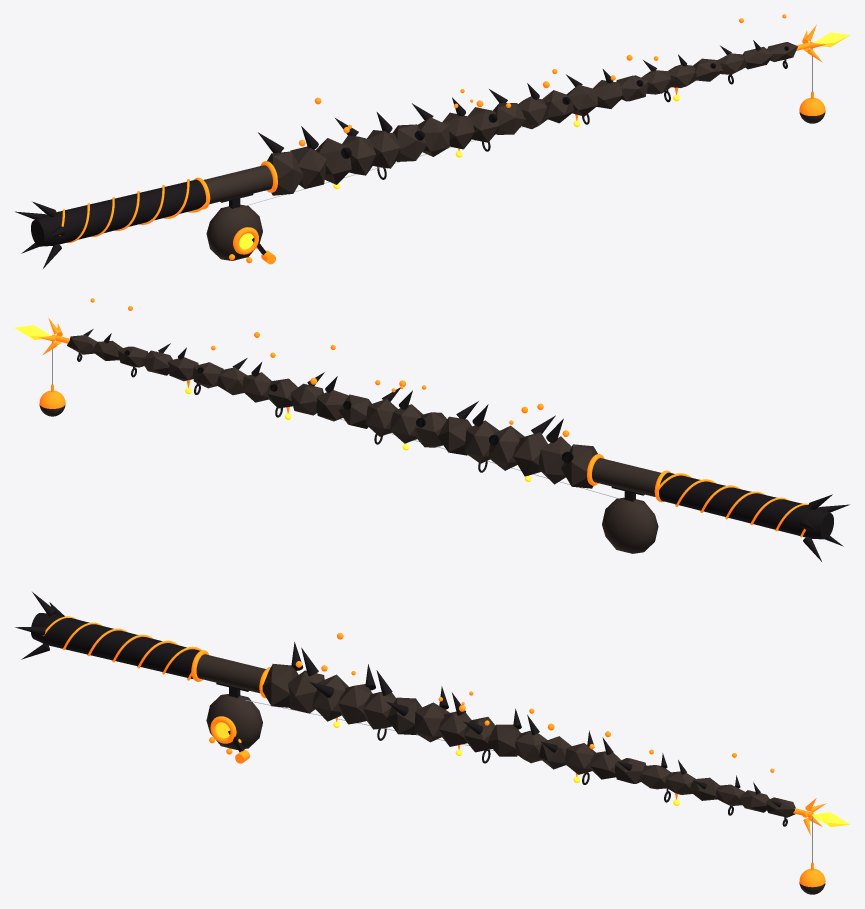
Rendered from ROD_MAGMA.glb.
3 renders of one model, top to bottom at view 1: azimuth 30°, elevation 25°; view 2: azimuth 150°, elevation 25°; view 3: azimuth 330°, elevation 25°, orthographic.
Parts seen in each view (by area): view 1: rear_grip, reel_rock, reel_seat, rock_seg_0, rock_seg_1, rock_seg_2, rock_seg_4, rock_seg_3, rock_seg_6, rock_seg_5, rock_seg_7, rock_seg_9 (+10 smaller); view 2: rear_grip, reel_rock, reel_seat, rock_seg_0, rock_seg_2, rock_seg_1, rock_seg_3, rock_seg_4, rock_seg_5, rock_seg_7, rock_seg_8, rock_seg_6 (+10 smaller); view 3: rear_grip, reel_rock, reel_seat, rock_seg_0, rock_seg_1, rock_seg_3, rock_seg_2, rock_seg_6, rock_seg_4, rock_seg_9, rock_seg_5, rock_seg_7 (+6 smaller).
Boxes of the visible parts, <box> form: rear_grip: <box>53,179,205,244</box>; reel_rock: <box>206,204,262,260</box>; reel_seat: <box>204,165,272,204</box>; rock_seg_0: <box>267,151,303,195</box>; rock_seg_1: <box>290,146,326,188</box>; rock_seg_2: <box>315,138,351,184</box>; rock_seg_4: <box>367,130,400,168</box>; rock_seg_3: <box>342,135,375,175</box>; rock_seg_6: <box>417,117,449,156</box>; rock_seg_5: <box>392,124,426,161</box>; rock_seg_7: <box>442,112,474,149</box>; rock_seg_9: <box>493,103,526,134</box>; rear_grip: <box>659,472,811,537</box>; reel_rock: <box>602,497,658,553</box>; reel_seat: <box>592,458,660,496</box>; rock_seg_0: <box>561,444,597,488</box>; rock_seg_2: <box>513,432,547,476</box>; rock_seg_1: <box>538,436,571,484</box>; rock_seg_3: <box>489,425,524,470</box>; rock_seg_4: <box>464,420,499,463</box>; rock_seg_5: <box>438,416,472,455</box>; rock_seg_7: <box>390,404,422,443</box>; rock_seg_8: <box>365,399,397,436</box>; rock_seg_6: <box>415,412,447,447</box>; rear_grip: <box>43,613,199,678</box>; reel_rock: <box>206,694,262,749</box>; reel_seat: <box>196,654,265,693</box>; rock_seg_0: <box>262,664,298,707</box>; rock_seg_1: <box>288,670,324,713</box>; rock_seg_3: <box>338,684,372,724</box>; rock_seg_2: <box>312,674,348,721</box>; rock_seg_6: <box>414,702,449,742</box>; rock_seg_4: <box>363,692,396,729</box>; rock_seg_9: <box>488,724,520,756</box>; rock_seg_5: <box>387,697,421,734</box>; rock_seg_7: <box>439,711,471,746</box>.
Bounding box in the file's own units: 1.81 × 0.2834 × 0.1384.
